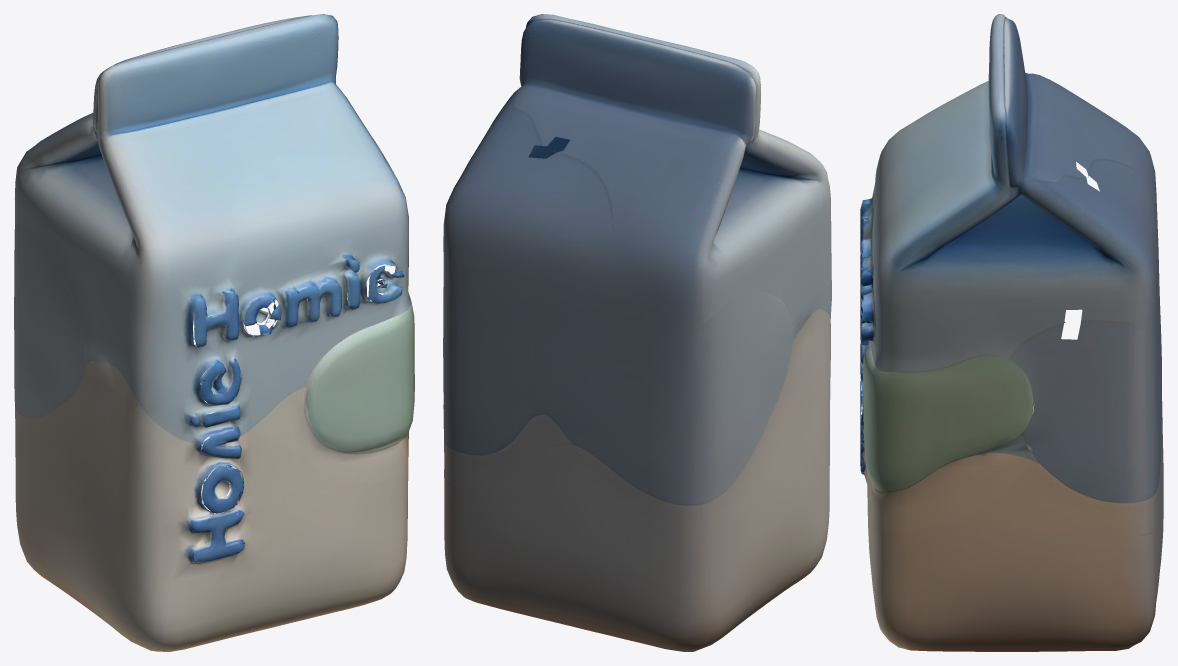
The model's file is milk.glb.
3 views of the same model, side by side, from view 1: azimuth 30°, elevation 25°; view 2: azimuth 150°, elevation 25°; view 3: azimuth 270°, elevation 25° (orthographic). The views are drawn at different scales.
Parts seen in each view (by area): view 1: tripo_node_afbd9710; view 2: tripo_node_afbd9710; view 3: tripo_node_afbd9710.
Part boxes in pixels (<box>): tripo_node_afbd9710: <box>14,14,414,651</box>; tripo_node_afbd9710: <box>443,14,831,651</box>; tripo_node_afbd9710: <box>860,14,1163,651</box>.
Size of the model in its own units: 53.8 by 97.89 by 50.24.
Materials: 1 (1 with a texture image).
